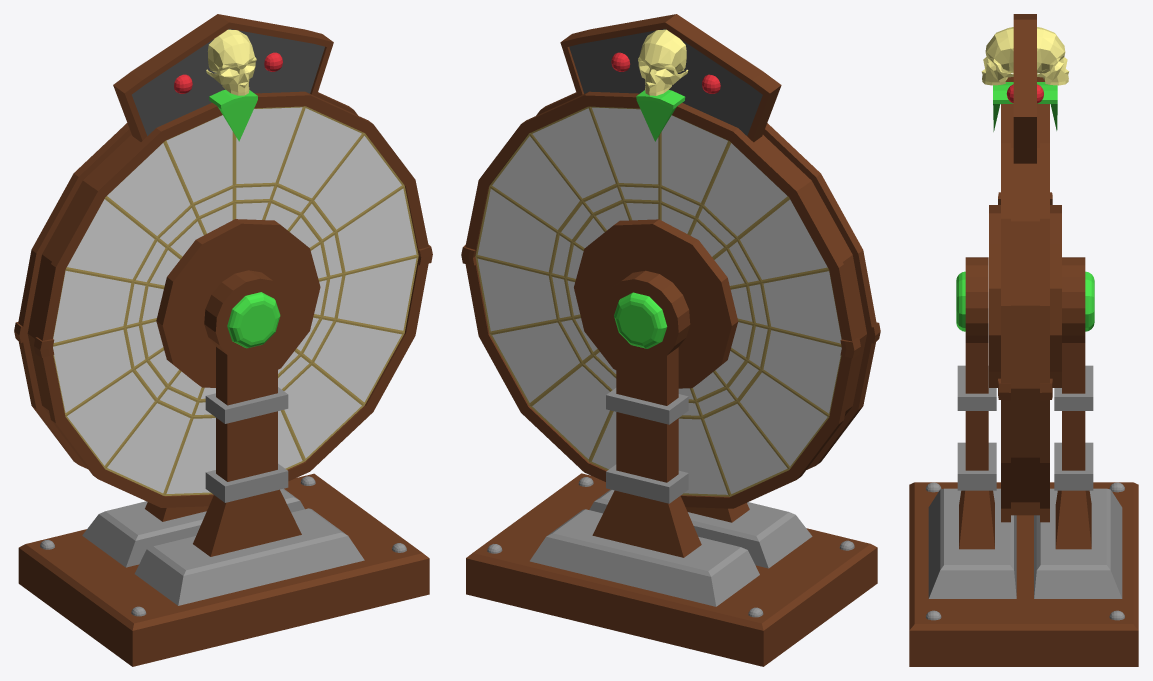
The model's file is RouletteShop.fbx.
3 renders of one model, left to right at view 1: azimuth 30°, elevation 25°; view 2: azimuth 150°, elevation 25°; view 3: azimuth 270°, elevation 25°, orthographic.
Parts seen in each view (by area): view 1: Cylinder.005, Cylinder.006; view 2: Cylinder.005, Cylinder.006; view 3: Cylinder.005.
Part boxes in pixels (x1,y1,x2,y2): Cylinder.005: (14, 14, 432, 666); Cylinder.006: (53, 107, 416, 493); Cylinder.005: (461, 14, 880, 666); Cylinder.006: (477, 107, 841, 494); Cylinder.005: (909, 14, 1138, 666).
Bounding box in the file's own units: 2 × 2.76 × 1.
